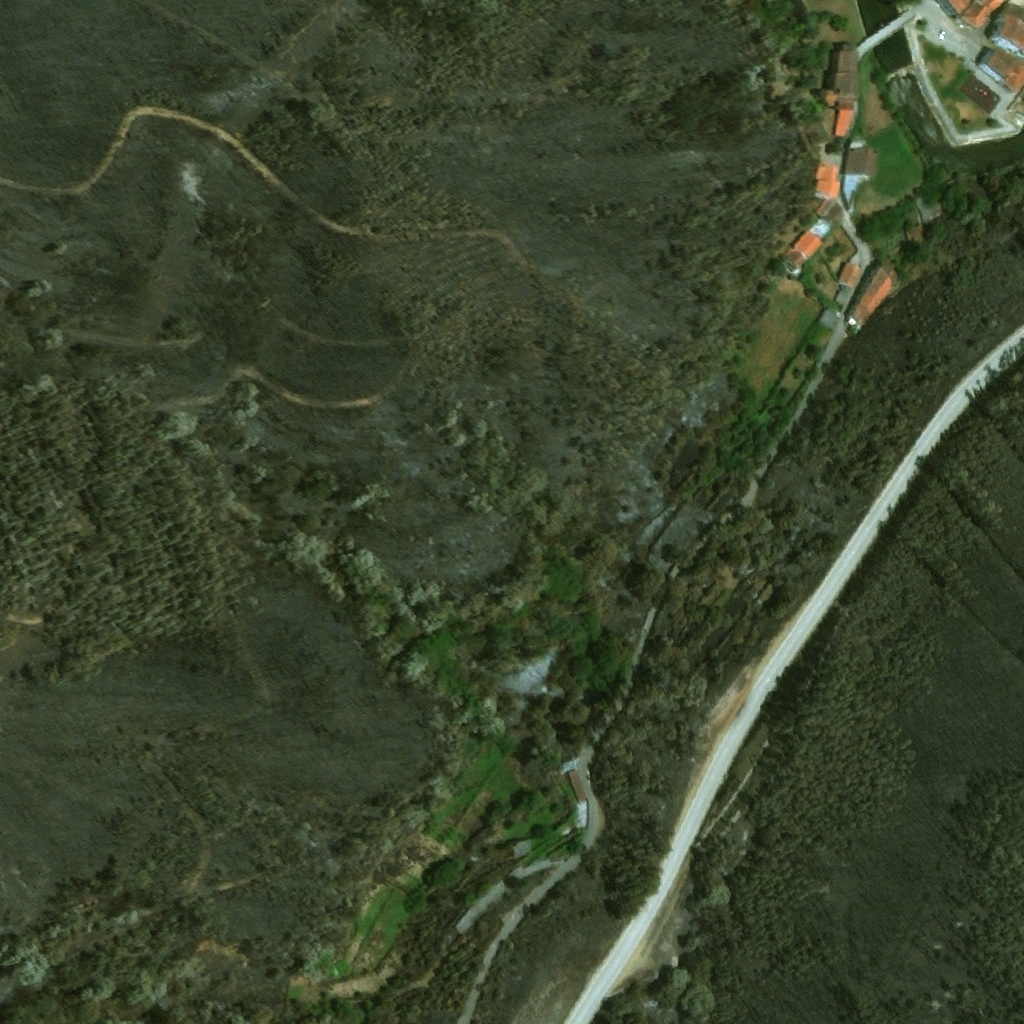0 no-damage: (846, 253, 900, 331), (818, 42, 856, 109), (974, 46, 1023, 96), (776, 231, 822, 279), (947, 0, 1010, 31), (989, 12, 1023, 52), (841, 140, 875, 178), (811, 166, 841, 202), (829, 102, 858, 139), (908, 193, 934, 227), (833, 262, 860, 290), (814, 306, 841, 334), (566, 771, 587, 805), (901, 224, 921, 244)
